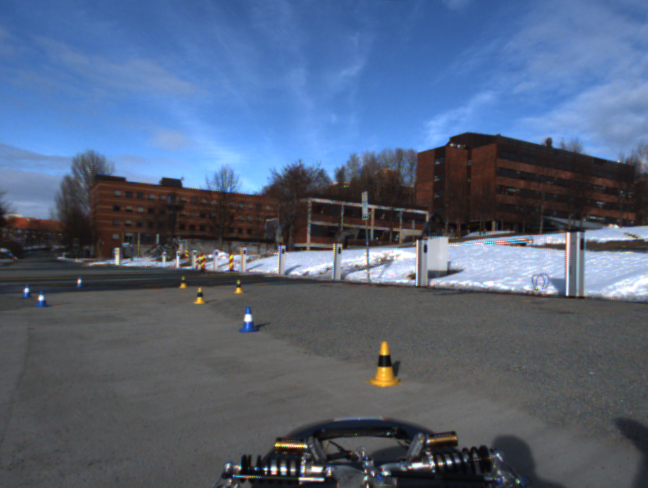cone-small-blue: (238, 306, 259, 333), (34, 290, 51, 307), (20, 284, 33, 298), (74, 276, 84, 289)
cone-small-yellow: (365, 341, 405, 387), (194, 287, 207, 304), (232, 279, 245, 295), (179, 276, 188, 288)
